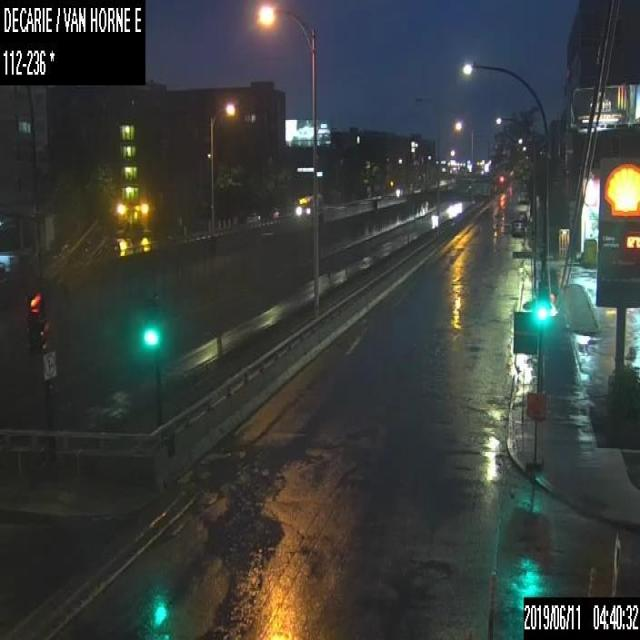bus: (294, 193, 322, 214)
construction: (524, 388, 544, 469), (486, 570, 496, 638), (586, 563, 596, 596), (463, 625, 472, 639)
vehicle: (510, 218, 526, 236), (516, 189, 528, 204), (516, 209, 526, 221)
